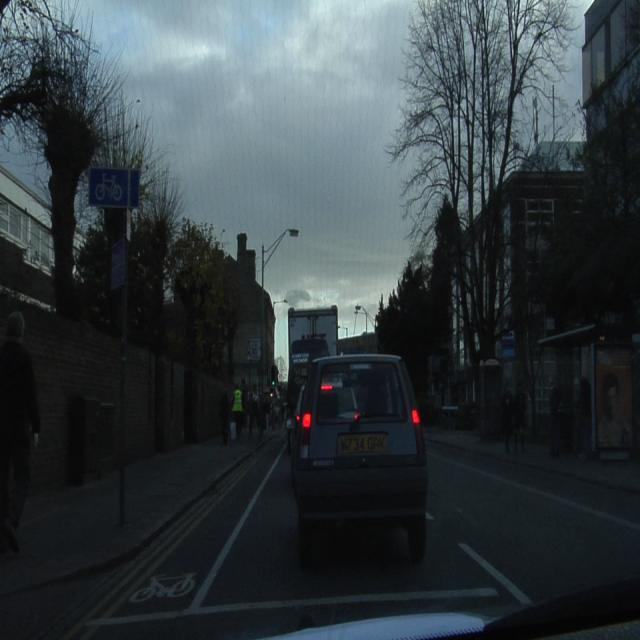Building: (225, 233, 275, 392)
Car: (292, 355, 429, 566)
Road: (0, 441, 635, 635)
Tree: (389, 0, 574, 370), (546, 0, 640, 328), (129, 182, 231, 374), (76, 225, 115, 329), (232, 388, 244, 438)
person: (1, 315, 39, 552), (219, 389, 231, 444)
